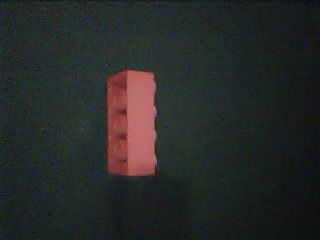lego: (104, 69, 158, 177)
